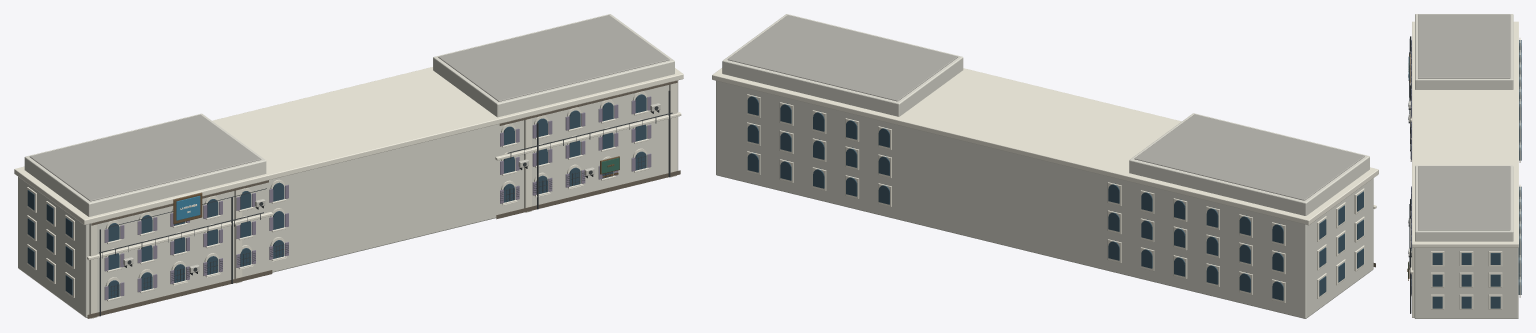
File: heritage.glb
The picture shows the model from 3 angles, left to right: view 1: azimuth 30°, elevation 25°; view 2: azimuth 150°, elevation 25°; view 3: azimuth 270°, elevation 25°; orthographic projection. The views are drawn at different scales.
Parts seen in each view (by area): view 1: LM_MainBlock, LM_MainRoof_Parapet, LM_LeftWing_RoofPatch, LM_RightWing_RoofPatch, LM_LeftWing_Upper, LM_RightWing_Upper, LM_Main_Ground_Dirt_L, LM_Main_Ground_Dirt_R, LM_Main_Facade_Ledge_R, LM_Main_Facade_Ledge_L, LM_Facade_Pilaster, LM_Facade_Pilaster.002 (+4 smaller); view 2: LM_MainBlock, LM_MainRoof_Parapet, LM_LeftWing_RoofPatch, LM_RightWing_RoofPatch, LM_RightWing_Upper, LM_LeftWing_Upper; view 3: LM_MainRoof_Parapet, LM_LeftWing_RoofPatch, LM_RightWing_RoofPatch, LM_MainBlock, LM_RightWing_Upper, LM_LeftWing_Upper, LM_Facade_Pilaster.003, LM_Side_Window_Glass_1_0_0, LM_Side_Window_Glass_1_0_1, LM_Side_Window_Glass_1_0_2, LM_Side_Window_Glass_1_1_0, LM_Side_Window_Glass_1_1_1 (+14 smaller).
Boxes of the visible parts, x1,y1,x2,y2 form: LM_MainBlock: (18,80,678,317); LM_MainRoof_Parapet: (14,67,683,224); LM_LeftWing_RoofPatch: (29,114,261,201); LM_RightWing_RoofPatch: (438,15,669,101); LM_LeftWing_Upper: (24,113,266,216); LM_RightWing_Upper: (433,14,674,117); LM_Main_Ground_Dirt_L: (87,270,272,318); LM_Main_Ground_Dirt_R: (496,170,680,219); LM_Main_Facade_Ledge_R: (495,112,681,160); LM_Main_Facade_Ledge_L: (87,212,272,260); LM_Facade_Pilaster: (89,223,97,318); LM_Facade_Pilaster.002: (524,118,531,212); LM_MainBlock: (716,81,1373,318); LM_MainRoof_Parapet: (712,68,1378,225); LM_LeftWing_RoofPatch: (1134,114,1364,200); LM_RightWing_RoofPatch: (727,15,957,101); LM_RightWing_Upper: (722,14,963,116); LM_LeftWing_Upper: (1129,113,1369,215); LM_MainRoof_Parapet: (1412,21,1518,247); LM_LeftWing_RoofPatch: (1418,14,1510,78); LM_RightWing_RoofPatch: (1418,166,1510,230); LM_MainBlock: (1414,248,1518,318); LM_RightWing_Upper: (1415,165,1513,241); LM_LeftWing_Upper: (1415,14,1513,89); LM_Facade_Pilaster.003: (1412,248,1414,317); LM_Side_Window_Glass_1_0_0: (1432,296,1442,308); LM_Side_Window_Glass_1_0_1: (1461,296,1471,308); LM_Side_Window_Glass_1_0_2: (1490,296,1500,308); LM_Side_Window_Glass_1_1_0: (1432,274,1442,286); LM_Side_Window_Glass_1_1_1: (1461,274,1471,286).
Bounding box in the file's own units: 91 × 16.64 × 19.69.
